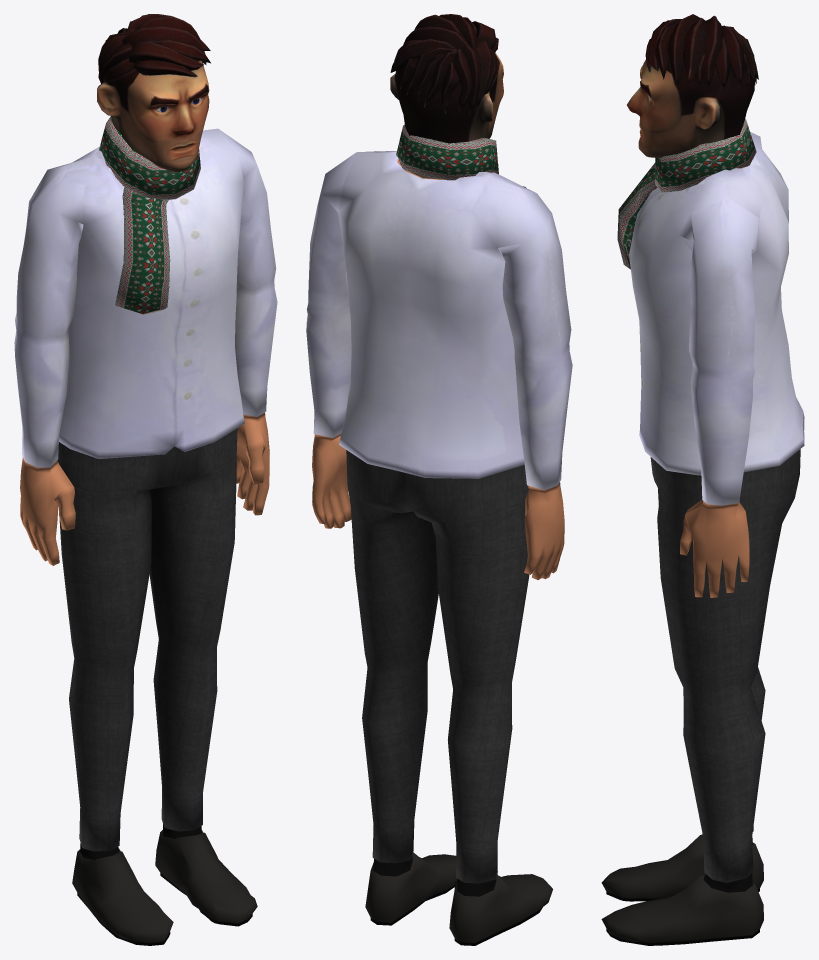
The model's file is NPC2.glb.
3 views of the same model, side by side, from view 1: azimuth 30°, elevation 25°; view 2: azimuth 150°, elevation 25°; view 3: azimuth 270°, elevation 25° (orthographic).
Visible parts, largest first — view 1: M_lBody_BaseMesh.002, M_lBody_BaseMesh.006; view 2: M_lBody_BaseMesh.002, M_lBody_BaseMesh.006; view 3: M_lBody_BaseMesh.002, M_lBody_BaseMesh.006.
Part boxes in pixels (x1,y1,x2,y2): M_lBody_BaseMesh.002: (14, 14, 277, 945); M_lBody_BaseMesh.006: (99, 116, 200, 314); M_lBody_BaseMesh.002: (306, 14, 572, 945); M_lBody_BaseMesh.006: (396, 124, 525, 187); M_lBody_BaseMesh.002: (601, 14, 804, 945); M_lBody_BaseMesh.006: (617, 119, 756, 269).
Size of what is drawn, in the model's own units: 0.544 by 1.81 by 0.372.
Materials: 3 (3 with a texture image).
